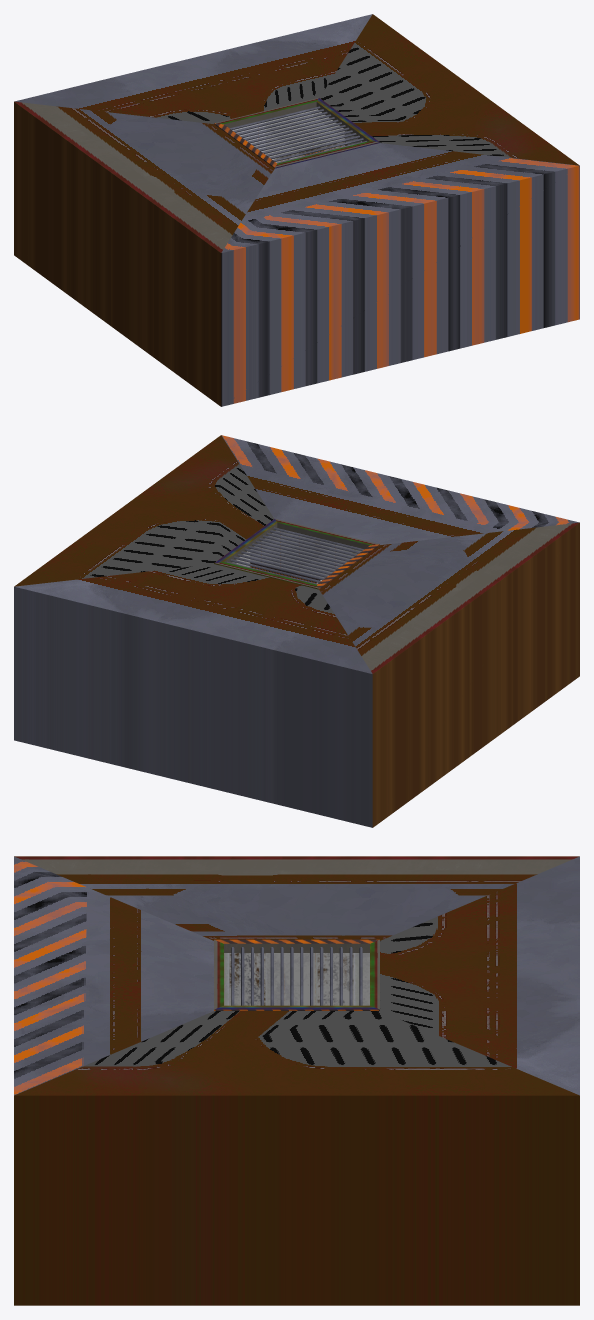
The model's file is Blayy.glb.
3 views of the same model, one above another, from view 1: azimuth 30°, elevation 25°; view 2: azimuth 150°, elevation 25°; view 3: azimuth 270°, elevation 25° (orthographic). The views are drawn at different scales.
Parts seen in each view (by area): view 1: Room, Venting, Overlay; view 2: Room, Venting; view 3: Room, Venting, Overlay, Pillars.
Boxes of the visible parts, x1=… form: Room: x1=14, y1=14, x2=579, y2=406; Venting: x1=214, y1=97, x2=379, y2=168; Overlay: x1=265, y1=109, x2=361, y2=162; Room: x1=14, y1=435, x2=579, y2=827; Venting: x1=214, y1=518, x2=379, y2=589; Room: x1=14, y1=856, x2=579, y2=1305; Venting: x1=214, y1=939, x2=379, y2=1010; Overlay: x1=224, y1=953, x2=369, y2=1005; Pillars: x1=230, y1=953, x2=353, y2=1005.
Size of the model in its own units: 31.74 by 13.08 by 31.74.
7 materials, 6 textured.
